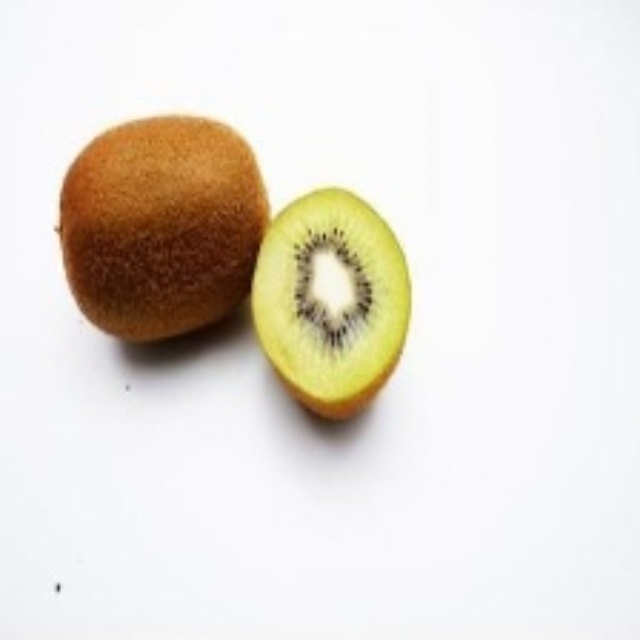kiwi: (59, 125, 266, 346), (248, 181, 418, 425)
